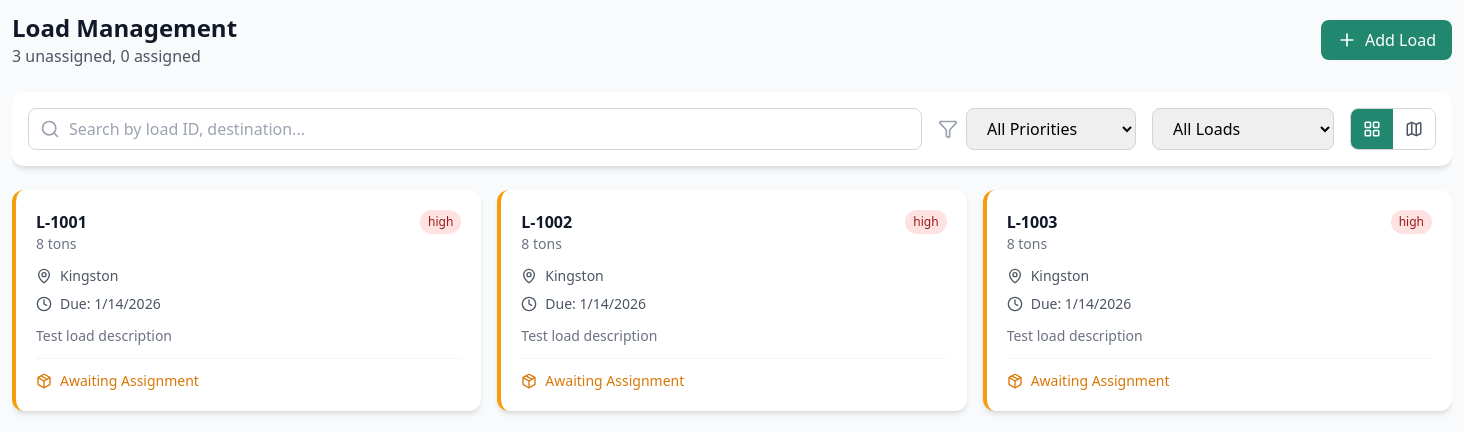
Test: LoadList › filtering › should filter by search term (load ID)
In the field with placeholder "Search by load ID, destination...": [475, 129] box [28,108,922,150], type "L-1002"
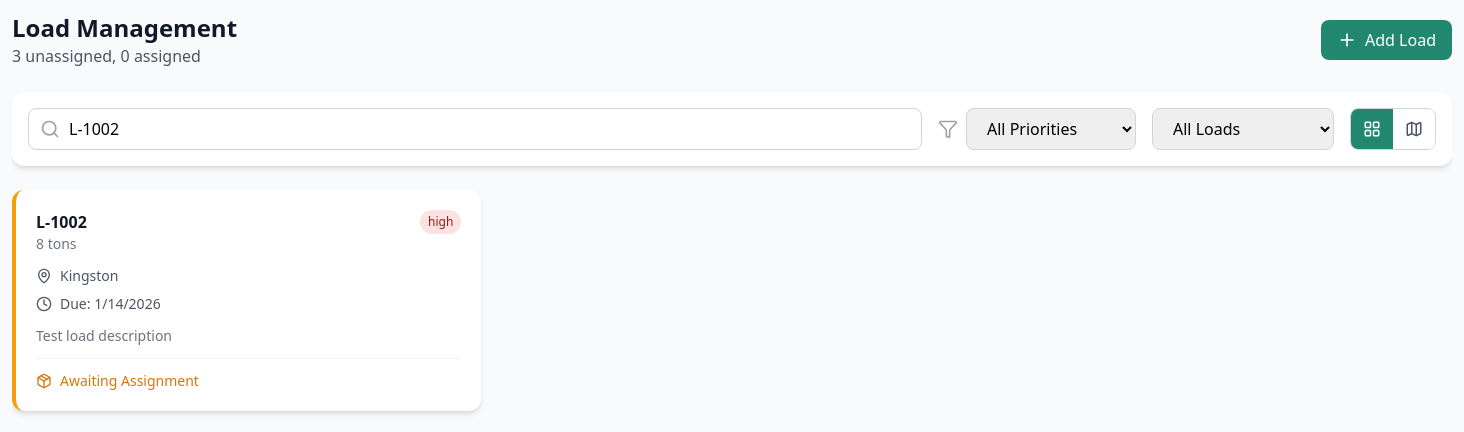
Check: the heading "L-1002" is shown, box [36,210,87,234]
Check: the heading "L-1001" is gone
Check: the heading "L-1003" is gone
